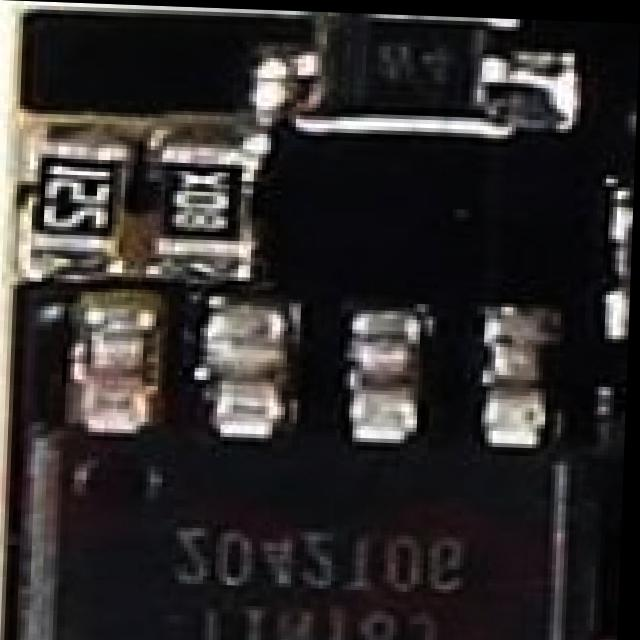IC: (37, 306, 579, 640)
diode: (299, 9, 556, 122)
resistor: (28, 137, 132, 268), (152, 145, 252, 271), (603, 186, 635, 335), (601, 634, 622, 640)
